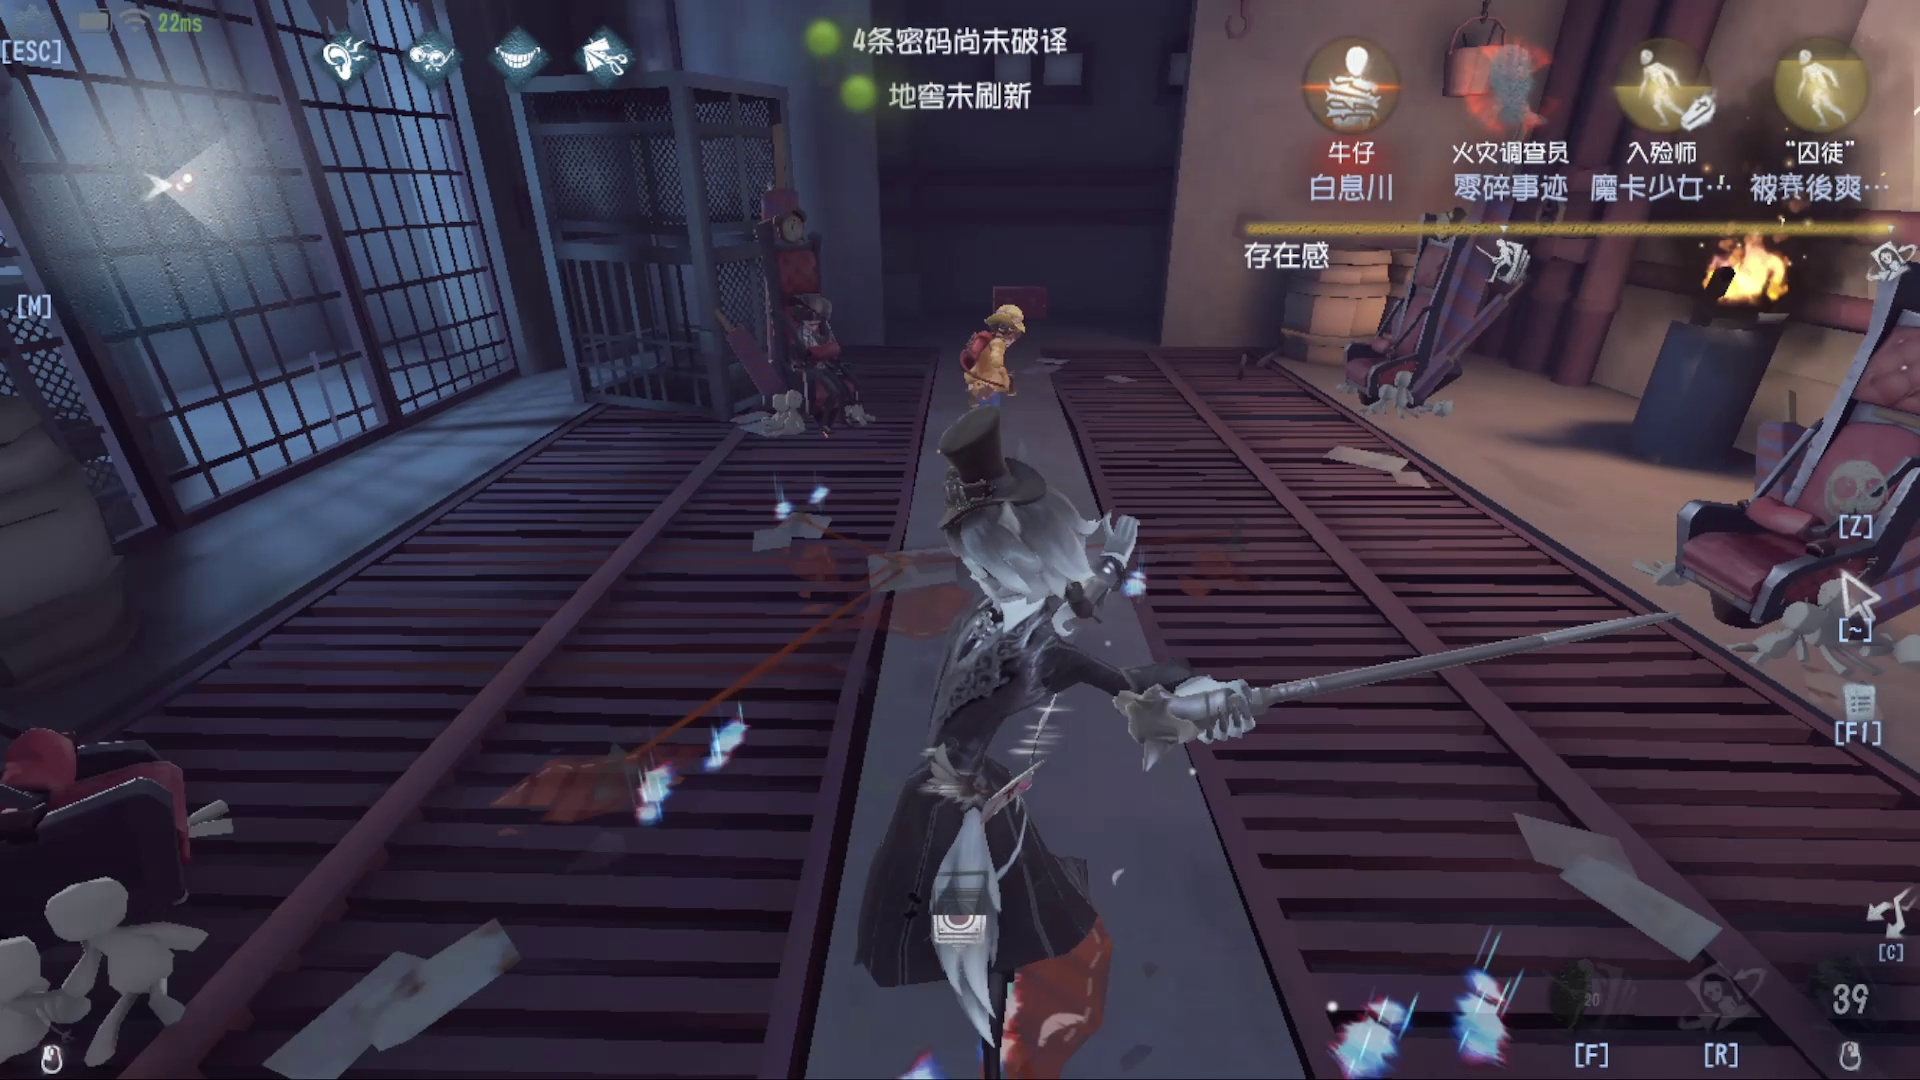狂欢之椅: (1299, 193, 1543, 404), (738, 152, 864, 442)
